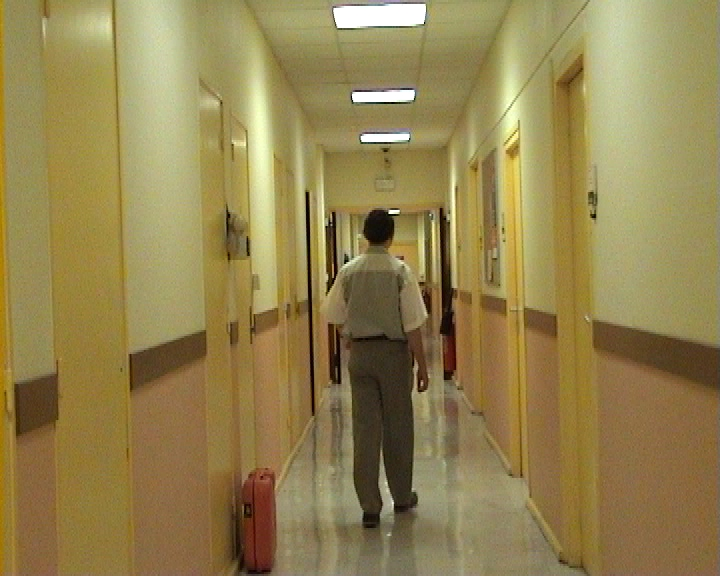leave bag unattended: (215, 452, 287, 576)
